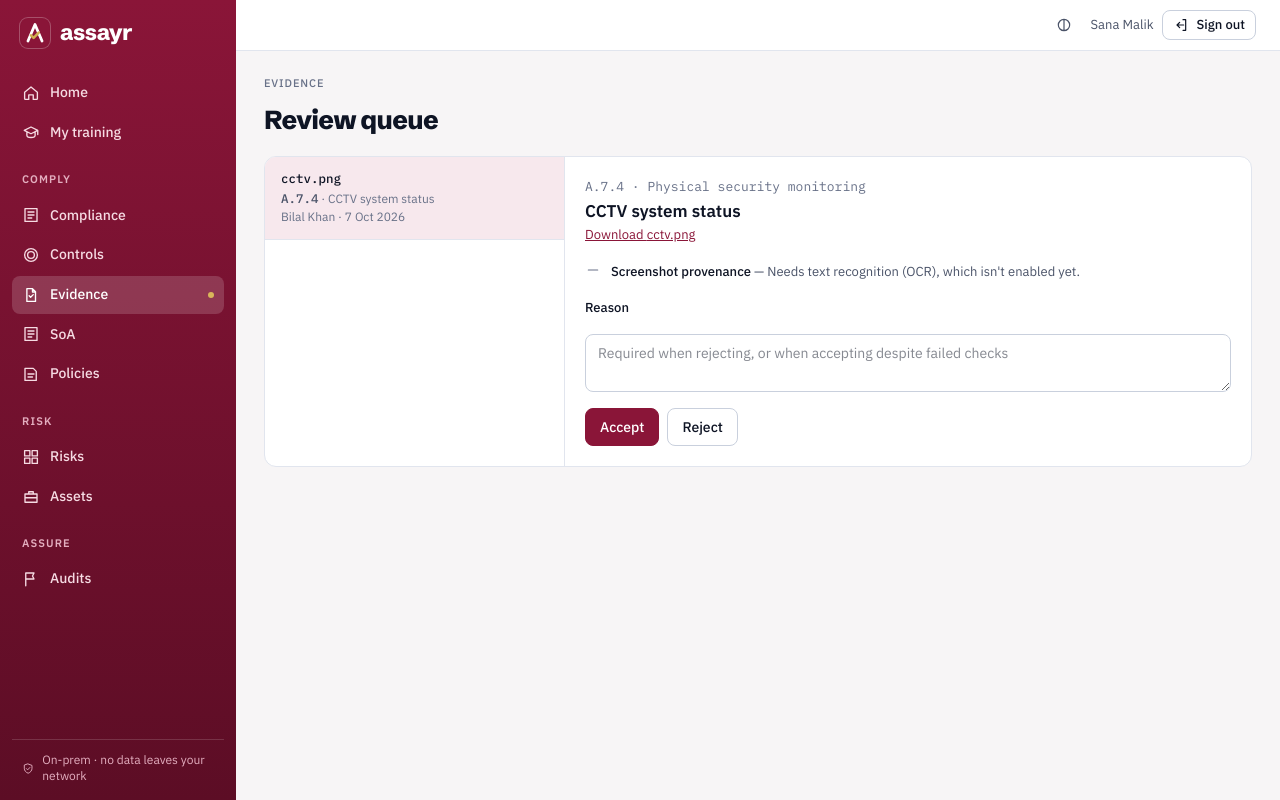
Test: a reviewer accepts an item with a reason
The image size is (1280, 800).
Expected: the text "Screenshot provenance" is shown, 611,263 -> 751,280
In the text box labelled "Reason": (908, 363) 585,334 -> 1231,392, type "Timestamp visible in the photo."
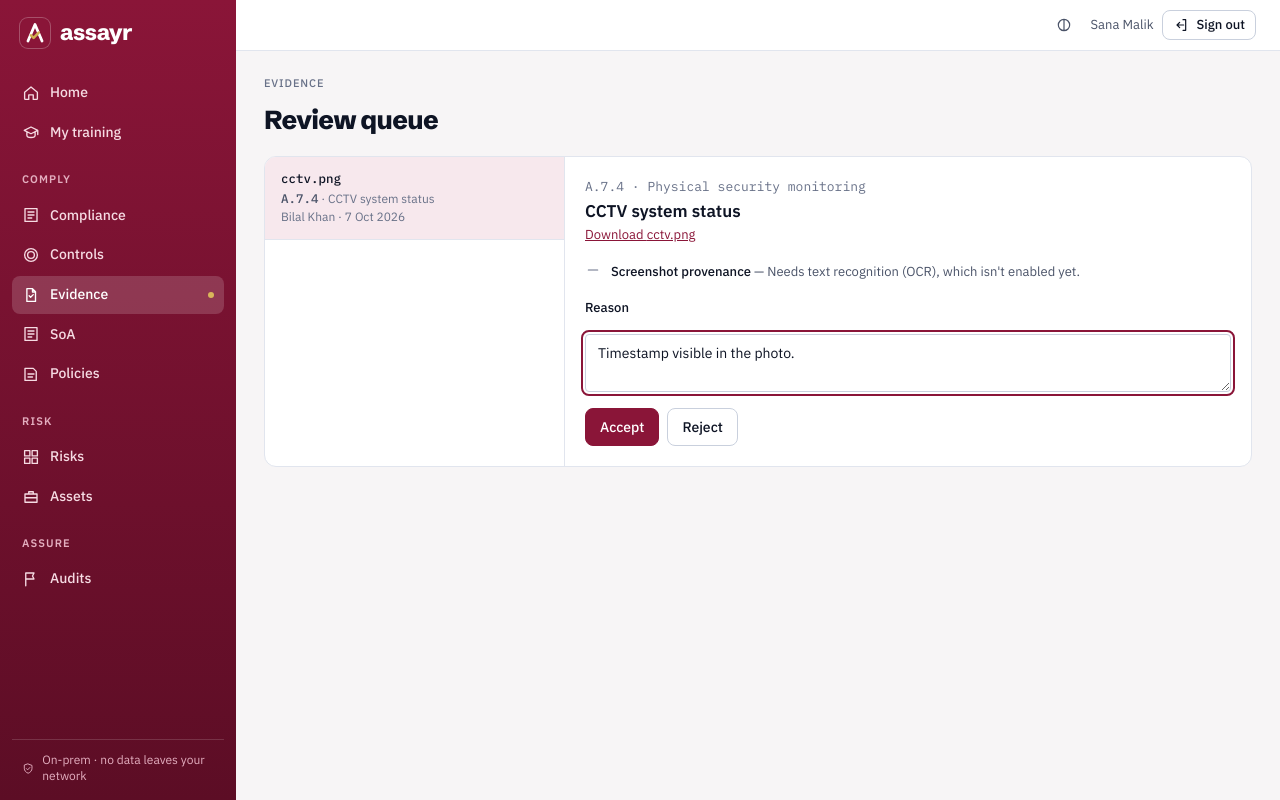
Click the button "Accept": (622, 427) 585,408 -> 659,446
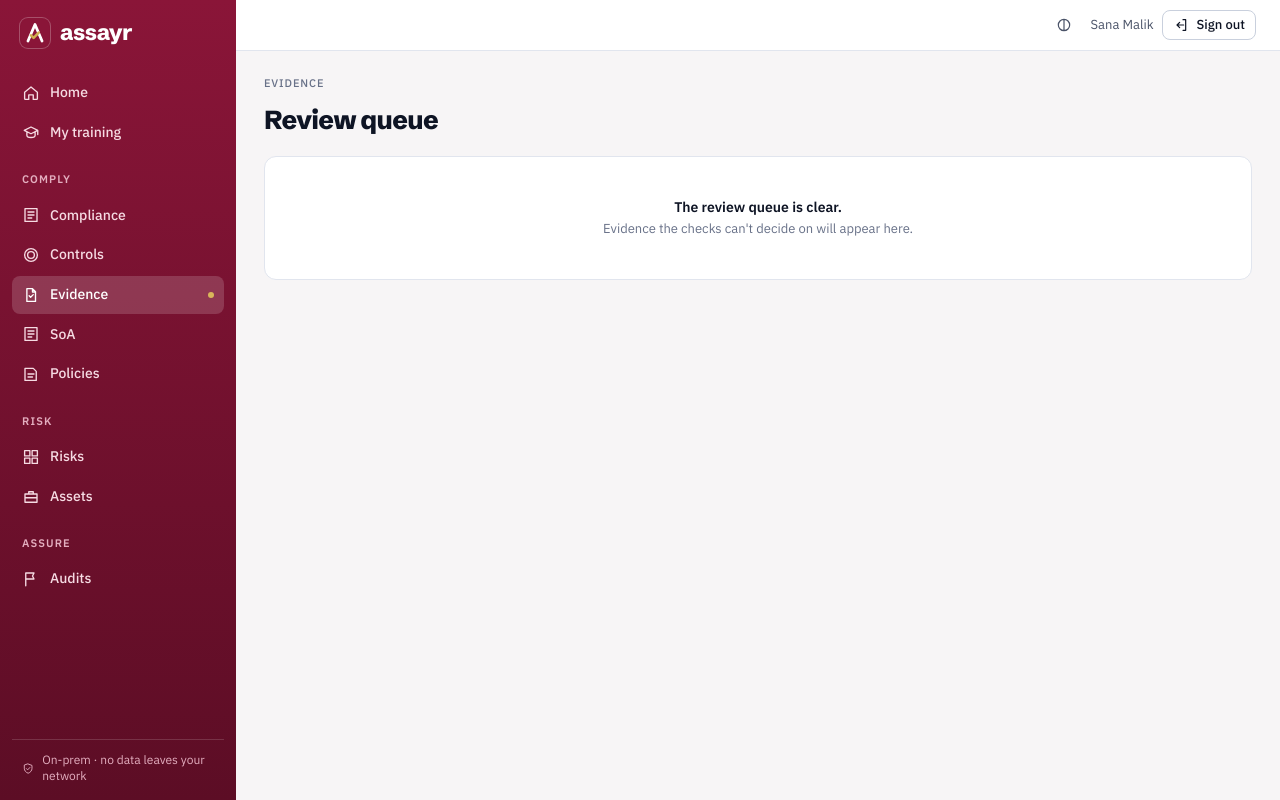
Expected: the text "The review queue is clear." is shown, 674,198 -> 842,216
